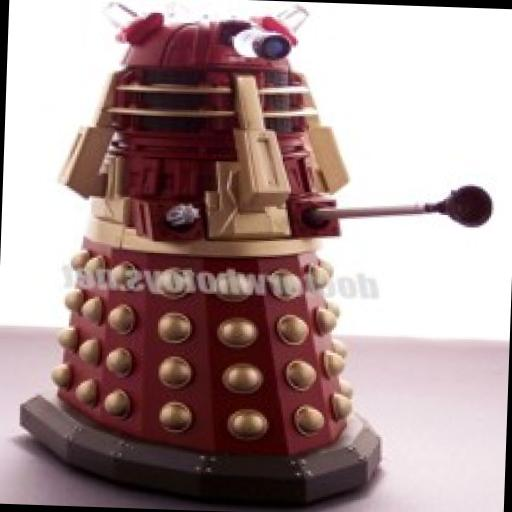dalek: (15, 0, 506, 512)
